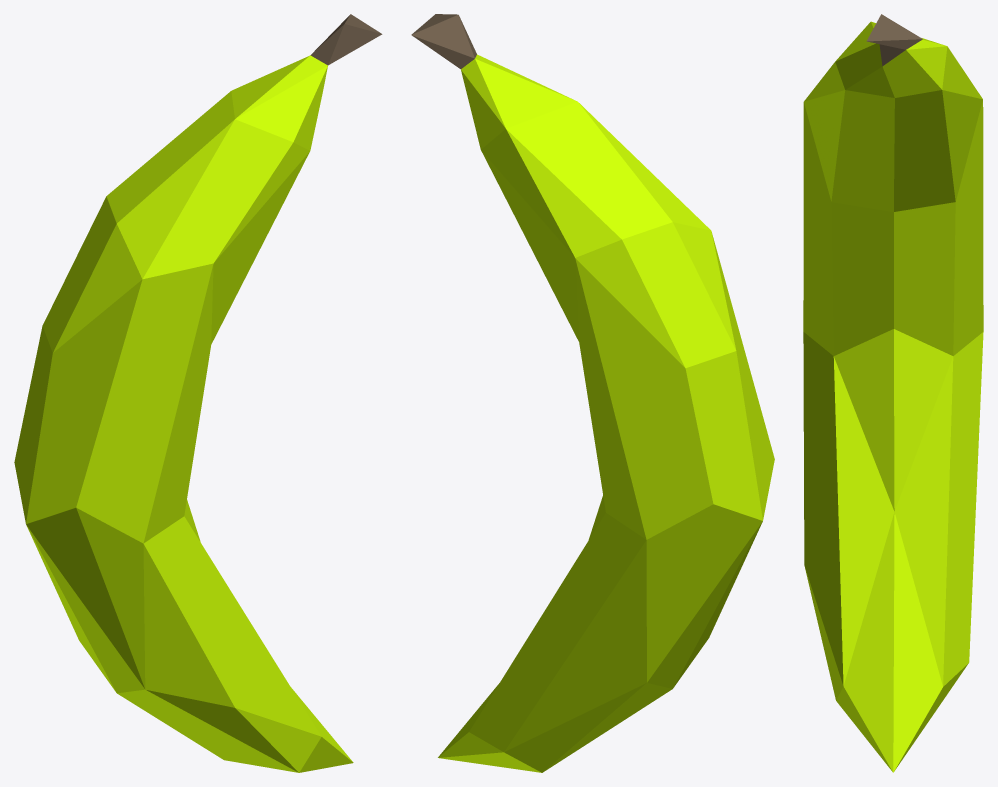
The model's file is Banana.fbx.
3 views of the same model, side by side, from view 1: azimuth 30°, elevation 25°; view 2: azimuth 150°, elevation 25°; view 3: azimuth 270°, elevation 25° (orthographic).
Parts seen in each view (by area): view 1: Banana; view 2: Banana; view 3: Banana.
Part boxes in pixels (x1=…): Banana: x1=14, y1=14, x2=382, y2=772; Banana: x1=411, y1=14, x2=774, y2=772; Banana: x1=803, y1=14, x2=983, y2=772.
Bounding box in the file's own units: 7.75 × 16.14 × 3.51.
